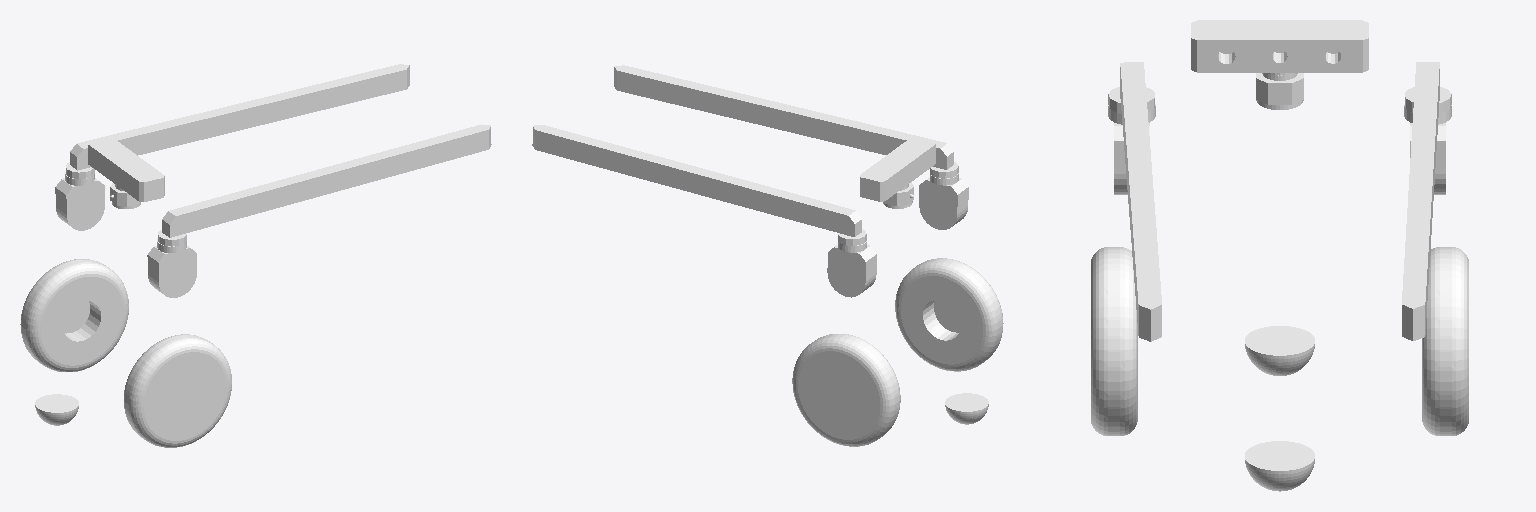
The robot description file, URDF, robot "bbr_robot":
<?xml version="1.0"?>
<!-- This URDF was automatically created by SolidWorks to URDF Exporter! Originally created by [author] ([email redacted]) 
     Commit Version: 1.6.0-4-g7f85cfe  Build Version: 1.6.7995.38578
     For more information, please see http://wiki.ros.org/sw_urdf_exporter -->
<robot
  name="bbr_robot">
  <link
    name="base_link">
    <inertial>
      <origin
        xyz="0.0055548 -1.0842E-17 0.12396"
        rpy="0 0 0" />
      <mass
        value="4" />
      <inertia
        ixx="0.034878"
        ixy="0"
        ixz="-0.00014227"
        iyy="0.030104"
        iyz="0"
        izz="0.019095" />
    </inertial>
    <visual>
      <origin
        xyz="0 0 0"
        rpy="0 0 0" />
      <geometry>
        <mesh
          filename="package://bbr_robot_description/meshes/base_link.STL" />
      </geometry>
      <material
        name="">
        <color
          rgba="1 1 1 1" />
      </material>
    </visual>
    <collision>
      <origin
        xyz="0 0 0"
        rpy="0 0 0" />
      <geometry>
        <mesh
          filename="package://bbr_robot_description/meshes/base_link.STL" />
      </geometry>
    </collision>
  </link>
  <link
    name="IMU_link">
    <inertial>
      <origin
        xyz="-4.6593E-05 -4.3368E-18 0.019093"
        rpy="0 0 0" />
      <mass
        value="0.037898" />
      <inertia
        ixx="6.4173E-06"
        ixy="-4.749E-23"
        ixz="1.601E-09"
        iyy="6.456E-06"
        iyz="3.2231E-22"
        izz="7.9599E-06" />
    </inertial>
    <visual>
      <origin
        xyz="0 0 0"
        rpy="0 0 0" />
      <geometry>
        <mesh
          filename="package://bbr_robot_description/meshes/IMU_link.STL" />
      </geometry>
      <material
        name="">
        <color
          rgba="1 1 1 1" />
      </material>
    </visual>
    <collision>
      <origin
        xyz="0 0 0"
        rpy="0 0 0" />
      <geometry>
        <mesh
          filename="package://bbr_robot_description/meshes/IMU_link.STL" />
      </geometry>
    </collision>
  </link>
  <joint
    name="IMU_joint"
    type="fixed">
    <origin
      xyz="0 0 0.27"
      rpy="0 0 0" />
    <parent
      link="base_link" />
    <child
      link="IMU_link" />
    <axis
      xyz="0 0 0" />
  </joint>
  <link
    name="camera_link">
    <inertial>
      <origin
        xyz="-0.00052746 0.00012148 0.024642"
        rpy="0 0 0" />
      <mass
        value="0.17291" />
      <inertia
        ixx="0.00033064"
        ixy="-2.2114E-07"
        ixz="3.2623E-08"
        iyy="3.6772E-05"
        iyz="-7.5136E-09"
        izz="0.00033873" />
    </inertial>
    <visual>
      <origin
        xyz="0 0 0"
        rpy="0 0 0" />
      <geometry>
        <mesh
          filename="package://bbr_robot_description/meshes/camera_link.STL" />
      </geometry>
      <material
        name="">
        <color
          rgba="1 1 1 1" />
      </material>
    </visual>
    <collision>
      <origin
        xyz="0 0 0"
        rpy="0 0 0" />
      <geometry>
        <mesh
          filename="package://bbr_robot_description/meshes/camera_link.STL" />
      </geometry>
    </collision>
  </link>
  <joint
    name="camera_joint"
    type="fixed">
    <origin
      xyz="0 0 0.03"
      rpy="0 0 0" />
    <parent
      link="IMU_link" />
    <child
      link="camera_link" />
    <axis
      xyz="0 0 0" />
  </joint>
  <link
    name="right_shoulder_link">
    <inertial>
      <origin
        xyz="-0.0001526 -0.015 0.010932"
        rpy="0 0 0" />
      <mass
        value="0.12398" />
      <inertia
        ixx="6.4232E-05"
        ixy="-1.6665E-20"
        ixz="3.4019E-07"
        iyy="8.4873E-05"
        iyz="-2.8292E-20"
        izz="3.9866E-05" />
    </inertial>
    <visual>
      <origin
        xyz="0 0 0"
        rpy="0 0 0" />
      <geometry>
        <mesh
          filename="package://bbr_robot_description/meshes/right_shoulder_link.STL" />
      </geometry>
      <material
        name="">
        <color
          rgba="1 1 1 1" />
      </material>
    </visual>
    <collision>
      <origin
        xyz="0 0 0"
        rpy="0 0 0" />
      <geometry>
        <mesh
          filename="package://bbr_robot_description/meshes/right_shoulder_link.STL" />
      </geometry>
    </collision>
  </link>
  <joint
    name="right_shoulder_joint"
    type="revolute">
    <origin
      xyz="0 -0.11 0.22"
      rpy="0 0 0" />
    <parent
      link="base_link" />
    <child
      link="right_shoulder_link" />
    <axis
      xyz="0 1 0" />
    <limit
      lower="-3.14"
      upper="3.14"
      effort="100"
      velocity="100" />
  </joint>
  <link
    name="right_limb_link">
    <inertial>
      <origin
        xyz="0.23812 0.0074497 0.02755"
        rpy="0 0 0" />
      <mass
        value="0.32057" />
      <inertia
        ixx="4.986E-05"
        ixy="-0.00023219"
        ixz="-0.00016738"
        iyy="0.0075326"
        iyz="-5.2112E-06"
        izz="0.0075201" />
    </inertial>
    <visual>
      <origin
        xyz="0 0 0"
        rpy="0 0 0" />
      <geometry>
        <mesh
          filename="package://bbr_robot_description/meshes/right_limb_link.STL" />
      </geometry>
      <material
        name="">
        <color
          rgba="1 1 1 1" />
      </material>
    </visual>
    <collision>
      <origin
        xyz="0 0 0"
        rpy="0 0 0" />
      <geometry>
        <mesh
          filename="package://bbr_robot_description/meshes/right_limb_link.STL" />
      </geometry>
    </collision>
  </link>
  <joint
    name="right_limb_joint"
    type="revolute">
    <origin
      xyz="0 -0.015 0.049995"
      rpy="0 0 0" />
    <parent
      link="right_shoulder_link" />
    <child
      link="right_limb_link" />
    <axis
      xyz="-0.013958 0 0.9999" />
    <limit
      lower="-3.14"
      upper="3.14"
      effort="100"
      velocity="100" />
  </joint>
  <link
    name="left_shoulder_link">
    <inertial>
      <origin
        xyz="-0.00016452 0.015 0.010932"
        rpy="0 0 0" />
      <mass
        value="0.12398" />
      <inertia
        ixx="6.4231E-05"
        ixy="2.1973E-22"
        ixz="3.6674E-07"
        iyy="8.4873E-05"
        iyz="2.5622E-20"
        izz="3.9867E-05" />
    </inertial>
    <visual>
      <origin
        xyz="0 0 0"
        rpy="0 0 0" />
      <geometry>
        <mesh
          filename="package://bbr_robot_description/meshes/left_shoulder_link.STL" />
      </geometry>
      <material
        name="">
        <color
          rgba="1 1 1 1" />
      </material>
    </visual>
    <collision>
      <origin
        xyz="0 0 0"
        rpy="0 0 0" />
      <geometry>
        <mesh
          filename="package://bbr_robot_description/meshes/left_shoulder_link.STL" />
      </geometry>
    </collision>
  </link>
  <joint
    name="left_shoulder_joint"
    type="revolute">
    <origin
      xyz="0 0.11 0.22"
      rpy="0 0 0" />
    <parent
      link="base_link" />
    <child
      link="left_shoulder_link" />
    <axis
      xyz="0 1 0" />
    <limit
      lower="-3.14"
      upper="3.14"
      effort="100"
      velocity="100" />
  </joint>
  <link
    name="left_limb_link">
    <inertial>
      <origin
        xyz="0.23814 -0.00578 0.02781"
        rpy="0 0 0" />
      <mass
        value="0.32057" />
      <inertia
        ixx="4.7528E-05"
        ixy="0.00018343"
        ixz="-0.00017558"
        iyy="0.0075353"
        iyz="4.2891E-06"
        izz="0.0075197" />
    </inertial>
    <visual>
      <origin
        xyz="0 0 0"
        rpy="0 0 0" />
      <geometry>
        <mesh
          filename="package://bbr_robot_description/meshes/left_limb_link.STL" />
      </geometry>
      <material
        name="">
        <color
          rgba="1 1 1 1" />
      </material>
    </visual>
    <collision>
      <origin
        xyz="0 0 0"
        rpy="0 0 0" />
      <geometry>
        <mesh
          filename="package://bbr_robot_description/meshes/left_limb_link.STL" />
      </geometry>
    </collision>
  </link>
  <joint
    name="left_limb_joint"
    type="revolute">
    <origin
      xyz="0 0.015 0.049994"
      rpy="0 0 0" />
    <parent
      link="left_shoulder_link" />
    <child
      link="left_limb_link" />
    <axis
      xyz="-0.015048 0 0.99989" />
    <limit
      lower="-3.14"
      upper="3.14"
      effort="100"
      velocity="100" />
  </joint>
  <link
    name="right_wheel_link">
    <inertial>
      <origin
        xyz="9.541E-18 -0.02063 -1.3878E-17"
        rpy="0 0 0" />
      <mass
        value="0.67292" />
      <inertia
        ixx="0.0012159"
        ixy="1.0596E-20"
        ixz="-3.5451E-37"
        iyy="0.0022611"
        iyz="-1.4966E-36"
        izz="0.0012159" />
    </inertial>
    <visual>
      <origin
        xyz="0 0 0"
        rpy="0 0 0" />
      <geometry>
        <mesh
          filename="package://bbr_robot_description/meshes/right_wheel_link.STL" />
      </geometry>
      <material
        name="">
        <color
          rgba="1 1 1 1" />
      </material>
    </visual>
    <collision>
      <origin
        xyz="0 0 0"
        rpy="0 0 0" />
      <geometry>
        <mesh
          filename="package://bbr_robot_description/meshes/right_wheel_link.STL" />
      </geometry>
    </collision>
  </link>
  <joint
    name="right_wheel_joint"
    type="continuous">
    <origin
      xyz="0 -0.12 0.05"
      rpy="0 0 0" />
    <parent
      link="base_link" />
    <child
      link="right_wheel_link" />
    <axis
      xyz="0 1 0" />
  </joint>
  <link
    name="left_wheel_link">
    <inertial>
      <origin
        xyz="8.6736E-19 0.02063 -1.3878E-17"
        rpy="0 0 0" />
      <mass
        value="0.67292" />
      <inertia
        ixx="0.0012159"
        ixy="9.6665E-21"
        ixz="3.5451E-37"
        iyy="0.0022611"
        iyz="1.4966E-36"
        izz="0.0012159" />
    </inertial>
    <visual>
      <origin
        xyz="0 0 0"
        rpy="0 0 0" />
      <geometry>
        <mesh
          filename="package://bbr_robot_description/meshes/left_wheel_link.STL" />
      </geometry>
      <material
        name="">
        <color
          rgba="1 1 1 1" />
      </material>
    </visual>
    <collision>
      <origin
        xyz="0 0 0"
        rpy="0 0 0" />
      <geometry>
        <mesh
          filename="package://bbr_robot_description/meshes/left_wheel_link.STL" />
      </geometry>
    </collision>
  </link>
  <joint
    name="left_wheel_joint"
    type="continuous">
    <origin
      xyz="0 0.12 0.05"
      rpy="0 0 0" />
    <parent
      link="base_link" />
    <child
      link="left_wheel_link" />
    <axis
      xyz="0 1 0" />
  </joint>
  <link
    name="front_caster_link">
    <inertial>
      <origin
        xyz="2.7756E-17 -6.9389E-18 -0.01125"
        rpy="0 0 0" />
      <mass
        value="0.5" />
      <inertia
        ixx="0.00011672"
        ixy="0"
        ixz="0"
        iyy="0.00011672"
        iyz="0"
        izz="0.00018" />
    </inertial>
    <visual>
      <origin
        xyz="0 0 0"
        rpy="0 0 0" />
      <geometry>
        <mesh
          filename="package://bbr_robot_description/meshes/front_caster_link.STL" />
      </geometry>
      <material
        name="">
        <color
          rgba="1 1 1 1" />
      </material>
    </visual>
    <collision>
      <origin
        xyz="0 0 0"
        rpy="0 0 0" />
      <geometry>
        <mesh
          filename="package://bbr_robot_description/meshes/front_caster_link.STL" />
      </geometry>
    </collision>
  </link>
  <joint
    name="front_caster_joint"
    type="fixed">
    <origin
      xyz="0.12144 0 0"
      rpy="0 0 0" />
    <parent
      link="base_link" />
    <child
      link="front_caster_link" />
    <axis
      xyz="0 0 0" />
  </joint>
  <link
    name="rear_caster_link">
    <inertial>
      <origin
        xyz="-2.7756E-17 6.9389E-18 -0.011093"
        rpy="0 0 0" />
      <mass
        value="0.5" />
      <inertia
        ixx="0.00011672"
        ixy="0"
        ixz="0"
        iyy="0.00011672"
        iyz="0"
        izz="0.00018" />
    </inertial>
    <visual>
      <origin
        xyz="0 0 0"
        rpy="0 0 0" />
      <geometry>
        <mesh
          filename="package://bbr_robot_description/meshes/rear_caster_link.STL" />
      </geometry>
      <material
        name="">
        <color
          rgba="1 1 1 1" />
      </material>
    </visual>
    <collision>
      <origin
        xyz="0 0 0"
        rpy="0 0 0" />
      <geometry>
        <mesh
          filename="package://bbr_robot_description/meshes/rear_caster_link.STL" />
      </geometry>
    </collision>
  </link>
  <joint
    name="rear_caster_joint"
    type="fixed">
    <origin
      xyz="-0.10856 0 0"
      rpy="0 0 0" />
    <parent
      link="base_link" />
    <child
      link="rear_caster_link" />
    <axis
      xyz="0 0 0" />
  </joint>
</robot>

--- Render facts (derived) ---
3 views of the same robot in one strip: view 1: azimuth 30°, elevation 25°; view 2: azimuth 150°, elevation 25°; view 3: azimuth 270°, elevation 25° (orthographic).
Model bbr_robot with 11 links and 10 joints (4 revolute, 2 continuous, 4 fixed), rooted at base_link, posed all joints at 0.
Links seen in each view (by area): view 1: right_wheel_link, left_wheel_link, right_limb_link, left_limb_link, camera_link, left_shoulder_link, right_shoulder_link, rear_caster_link; view 2: right_wheel_link, left_wheel_link, left_limb_link, right_limb_link, camera_link, right_shoulder_link, left_shoulder_link, rear_caster_link; view 3: camera_link, right_wheel_link, left_wheel_link, right_limb_link, left_limb_link, front_caster_link, rear_caster_link, IMU_link, right_shoulder_link, left_shoulder_link.
Link boxes in pixels (left/top/right/bottom): right_wheel_link: left=124, top=334, right=231, bottom=447; left_wheel_link: left=20, top=259, right=128, bottom=371; right_limb_link: left=158, top=124, right=491, bottom=246; left_limb_link: left=66, top=64, right=409, bottom=178; camera_link: left=88, top=137, right=164, bottom=201; left_shoulder_link: left=55, top=172, right=104, bottom=230; right_shoulder_link: left=147, top=239, right=196, bottom=297; rear_caster_link: left=35, top=394, right=78, bottom=425; right_wheel_link: left=895, top=258, right=1003, bottom=371; left_wheel_link: left=792, top=334, right=900, bottom=446; left_limb_link: left=532, top=125, right=866, bottom=245; right_limb_link: left=614, top=65, right=958, bottom=178; camera_link: left=860, top=137, right=935, bottom=201; right_shoulder_link: left=919, top=173, right=968, bottom=229; left_shoulder_link: left=827, top=241, right=876, bottom=297; rear_caster_link: left=945, top=393, right=988, bottom=424; camera_link: left=1191, top=20, right=1368, bottom=75; right_wheel_link: left=1091, top=247, right=1137, bottom=435; left_wheel_link: left=1422, top=247, right=1468, bottom=435; right_limb_link: left=1108, top=62, right=1161, bottom=341; left_limb_link: left=1402, top=62, right=1451, bottom=340; front_caster_link: left=1245, top=441, right=1314, bottom=491; rear_caster_link: left=1245, top=326, right=1314, bottom=375; IMU_link: left=1256, top=73, right=1303, bottom=109; right_shoulder_link: left=1108, top=104, right=1155, bottom=194; left_shoulder_link: left=1404, top=104, right=1451, bottom=194.
Bounding box of the posed robot: 0.6482 × 0.32 × 0.37 m (x, y, z).
Meshes: 11 distinct files referenced, 10 mesh visuals loaded (10 binary STL); not drawn: 1 (reference not matched to a file when rendering).
